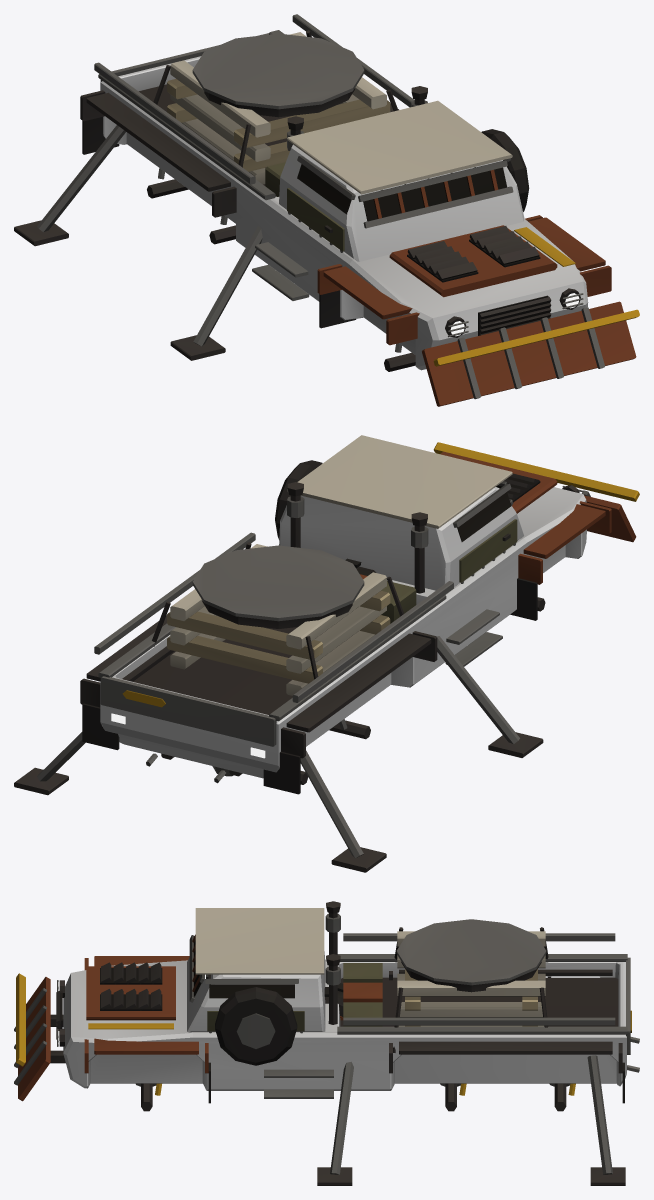
Rendered from turretTruck.glb.
3 views of the same model, one above another, from view 1: azimuth 30°, elevation 25°; view 2: azimuth 150°, elevation 25°; view 3: azimuth 270°, elevation 25° (orthographic). The views are drawn at different scales.
Visible parts, largest first — view 1: Body, Paint_Mesh; view 2: Body, Paint_Mesh; view 3: Body, Paint_Mesh.
Boxes of the visible parts, left/top/right/bottom form: Body: left=14, top=14, right=639, bottom=406; Paint_Mesh: left=100, top=56, right=588, bottom=370; Body: left=14, top=435, right=639, bottom=872; Paint_Mesh: left=100, top=487, right=586, bottom=778; Body: left=14, top=901, right=639, bottom=1185; Paint_Mesh: left=63, top=951, right=626, bottom=1090.
Size of the model in its own units: 4.55 by 2.54 by 8.02.
